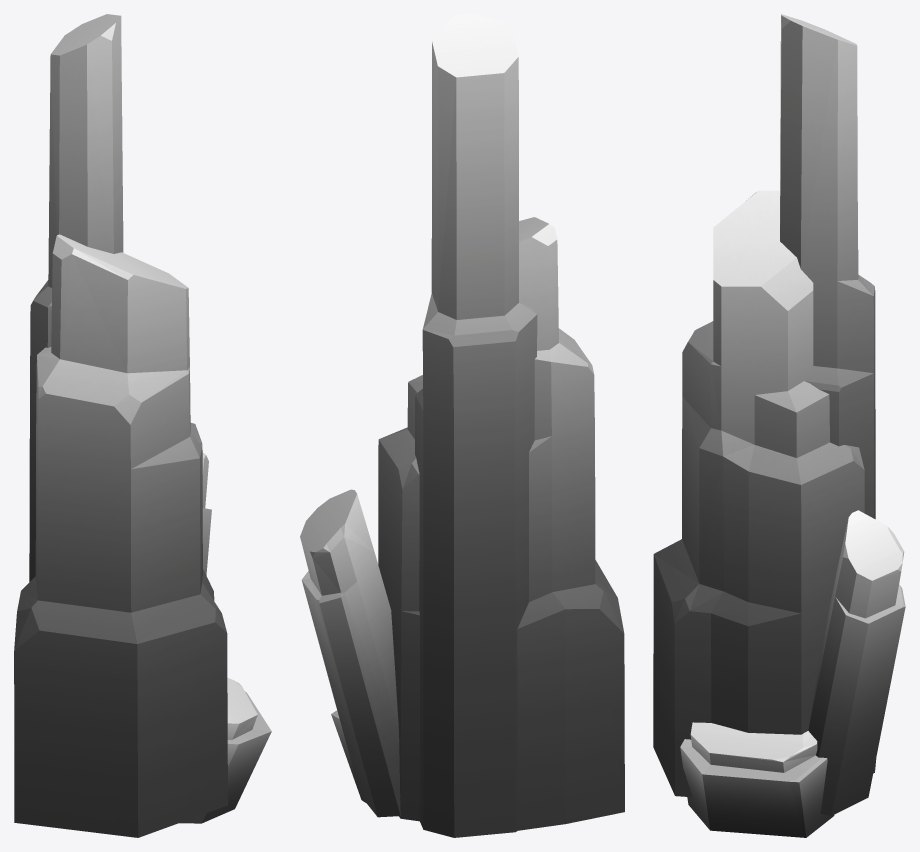
File: CrystalCubeCluster_A.fbx
The picture shows the model from 3 angles, left to right: view 1: azimuth 30°, elevation 25°; view 2: azimuth 150°, elevation 25°; view 3: azimuth 270°, elevation 25°; orthographic projection. The views are drawn at different scales.
Parts seen in each view (by area): view 1: CrystalCubeCluster_A; view 2: CrystalCubeCluster_A; view 3: CrystalCubeCluster_A.
Part boxes in pixels (<box>): CrystalCubeCluster_A: <box>14,14,271,837</box>; CrystalCubeCluster_A: <box>300,14,624,837</box>; CrystalCubeCluster_A: <box>653,14,905,837</box>.
Size of the model in its own units: 210 by 609 by 180.
1 material, 1 textured.
